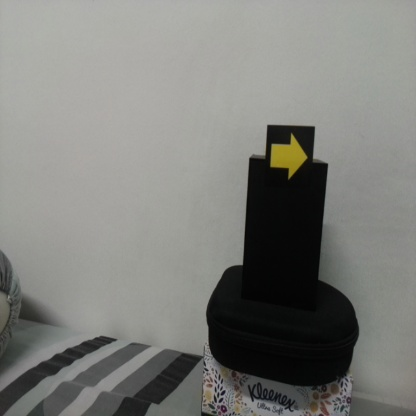id_3: (267, 127, 314, 188)
